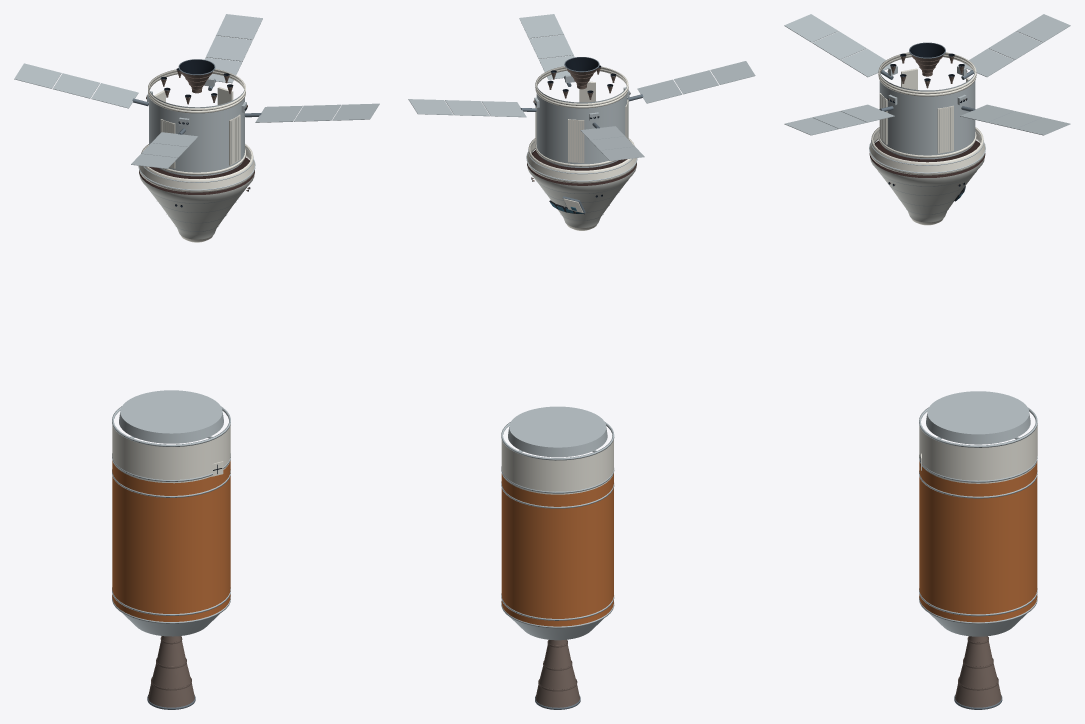
The model's file is artemis_ii_icps_proximity.glb.
The picture shows the model from 3 angles, left to right: view 1: azimuth 30°, elevation 25°; view 2: azimuth 150°, elevation 25°; view 3: azimuth 270°, elevation 25°; orthographic projection. The views are drawn at different scales.
Visible parts, largest first — view 1: icps.mesh_Spray-on_insulation, icps.mesh_Satin_aluminum, orion_esm.mesh_Satin_aluminum, icps.mesh_Warm_white_enamel, orion_cm.mesh_Pale_thermal_blanket, icps.rl10.bell.mesh_Heat-stained_alloy, orion_cma.mesh_Warm_white_enamel, orion_esm.mesh_Warm_white_enamel, orion_esm.wing_01.panel_01.panel_02.cells.mesh_Satin_aluminu, orion_esm.wing_01.panel_01.panel_02.panel_03.cells.mesh_Sati, orion_cm.heat_shield.mesh_Ablative_thermal_protection, orion_esm.wing_04.panel_01.panel_02.cells.mesh_Satin_aluminu (+5 smaller); view 2: icps.mesh_Spray-on_insulation, icps.mesh_Satin_aluminum, icps.mesh_Warm_white_enamel, orion_esm.mesh_Satin_aluminum, orion_cm.mesh_Pale_thermal_blanket, icps.rl10.bell.mesh_Heat-stained_alloy, orion_cma.mesh_Warm_white_enamel, orion_esm.mesh_Warm_white_enamel, orion_esm.wing_02.panel_01.panel_02.panel_03.cells.mesh_Sati, orion_esm.wing_02.panel_01.panel_02.cells.mesh_Satin_aluminu, orion_esm.radiator_04.mesh_Warm_white_enamel, orion_cm.heat_shield.mesh_Ablative_thermal_protection (+6 smaller); view 3: icps.mesh_Spray-on_insulation, icps.mesh_Satin_aluminum, orion_esm.mesh_Satin_aluminum, icps.mesh_Warm_white_enamel, orion_cm.mesh_Pale_thermal_blanket, icps.rl10.bell.mesh_Heat-stained_alloy, orion_cma.mesh_Warm_white_enamel, orion_esm.mesh_Warm_white_enamel, orion_cm.heat_shield.mesh_Ablative_thermal_protection, orion_esm.wing_03.panel_01.panel_02.cells.mesh_Satin_aluminu, orion_esm.wing_03.panel_01.panel_02.panel_03.cells.mesh_Sati, orion_esm.wing_04.panel_01.panel_02.cells.mesh_Satin_aluminu (+10 smaller).
Boxes of the visible parts, x1,y1,x2,y2 form: icps.mesh_Spray-on_insulation: (112,460,230,621); icps.mesh_Satin_aluminum: (112,390,230,636); orion_esm.mesh_Satin_aluminum: (149,88,244,176); icps.mesh_Warm_white_enamel: (112,425,230,483); orion_cm.mesh_Pale_thermal_blanket: (139,173,254,239); icps.rl10.bell.mesh_Heat-stained_alloy: (148,636,194,707); orion_cma.mesh_Warm_white_enamel: (139,144,254,192); orion_esm.mesh_Warm_white_enamel: (148,69,245,174); orion_esm.wing_01.panel_01.panel_02.cells.mesh_Satin_aluminu: (206,35,252,61); orion_esm.wing_01.panel_01.panel_02.panel_03.cells.mesh_Sati: (216,14,262,39); orion_cm.heat_shield.mesh_Ablative_thermal_protection: (139,157,254,194); orion_esm.wing_04.panel_01.panel_02.cells.mesh_Satin_aluminu: (53,73,99,98); icps.mesh_Spray-on_insulation: (501,473,613,626); icps.mesh_Satin_aluminum: (501,406,614,640); icps.mesh_Warm_white_enamel: (501,439,613,494); orion_esm.mesh_Satin_aluminum: (536,85,627,167); orion_cm.mesh_Pale_thermal_blanket: (527,165,636,227); icps.rl10.bell.mesh_Heat-stained_alloy: (535,639,579,707); orion_cma.mesh_Warm_white_enamel: (527,138,636,183); orion_esm.mesh_Warm_white_enamel: (535,66,628,166); orion_esm.wing_02.panel_01.panel_02.panel_03.cells.mesh_Sati: (519,14,563,38); orion_esm.wing_02.panel_01.panel_02.cells.mesh_Satin_aluminu: (529,34,573,58); orion_esm.radiator_04.mesh_Warm_white_enamel: (568,119,584,162); orion_cm.heat_shield.mesh_Ablative_thermal_protection: (527,150,636,185); icps.mesh_Spray-on_insulation: (919,461,1037,622); icps.mesh_Satin_aluminum: (919,391,1037,636); orion_esm.mesh_Satin_aluminum: (879,71,975,159); icps.mesh_Warm_white_enamel: (919,424,1037,483); orion_cm.mesh_Pale_thermal_blanket: (870,158,984,222); icps.rl10.bell.mesh_Heat-stained_alloy: (955,636,1001,707); orion_cma.mesh_Warm_white_enamel: (869,127,985,175); orion_esm.mesh_Warm_white_enamel: (878,52,976,157); orion_cm.heat_shield.mesh_Ablative_thermal_protection: (869,140,985,177); orion_esm.wing_03.panel_01.panel_02.cells.mesh_Satin_aluminu: (812,31,866,59); orion_esm.wing_03.panel_01.panel_02.panel_03.cells.mesh_Sati: (784,14,838,42); orion_esm.wing_04.panel_01.panel_02.cells.mesh_Satin_aluminu: (988,31,1042,59).
Size of the model in its own units: 12.4 by 31 by 12.4.
